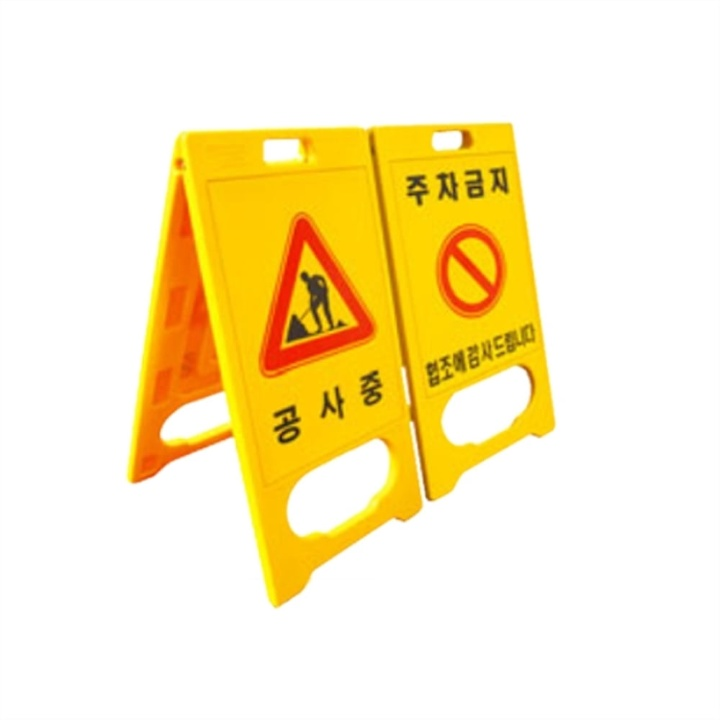const: (277, 269, 347, 345)
